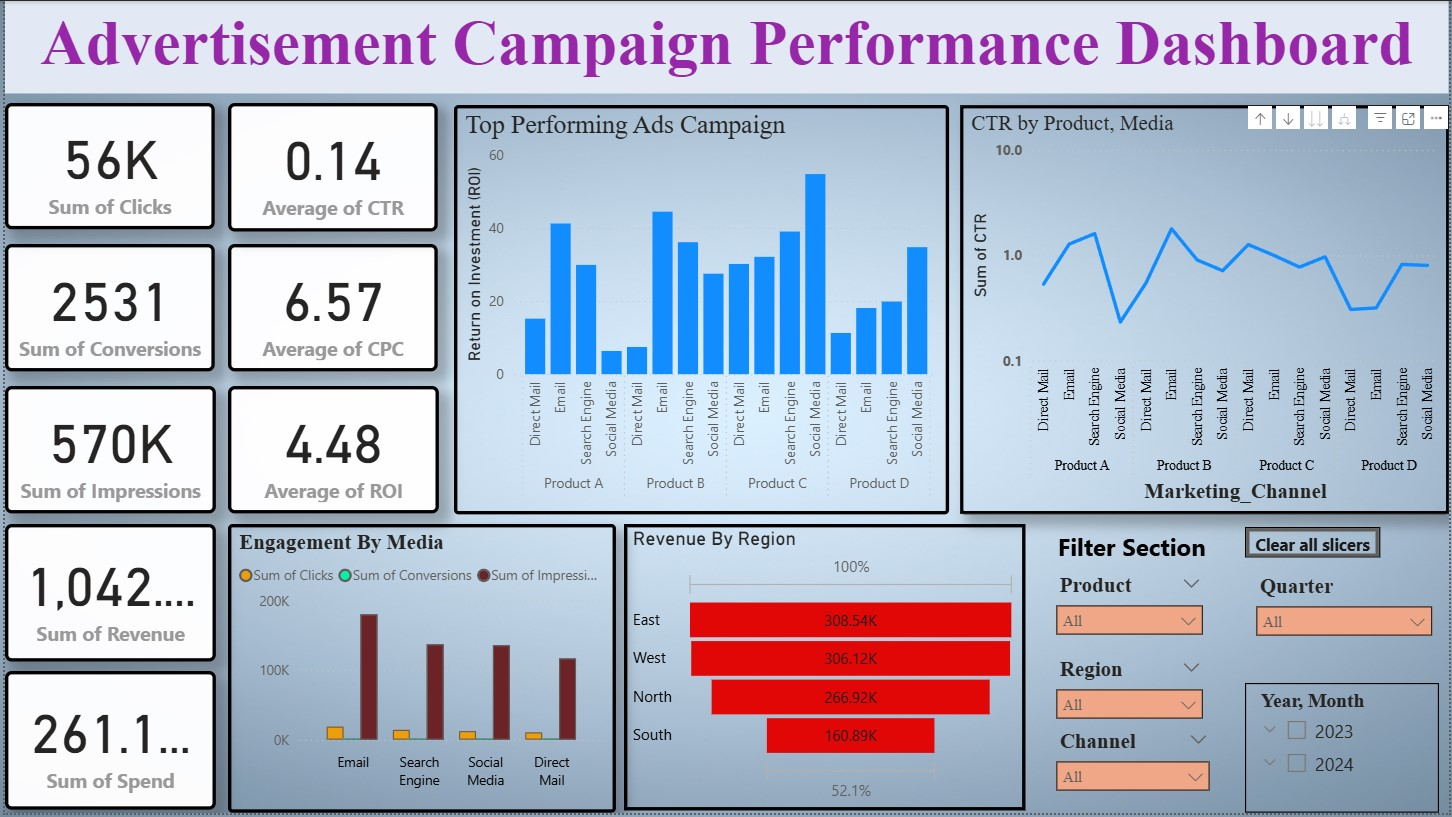

Layout of this report page (visuals, bound fields, positions):
{"tool":"powerbi","page":{"name":"Page 1","canvas":[1280,720],"ordinal":0},"visuals":[{"type":"textbox","box":[0,0,1280.4,82.5],"z":0},{"type":"card","fields":{"Values":["Sum(Sheet1.Conversions)"]},"box":[0,215.5,186.2,113.5],"z":1000},{"type":"card","fields":{"Values":["Sum(Sheet1.Clicks)"]},"box":[0,90.4,186.2,111.7],"z":2000},{"type":"card","fields":{"Values":["Avg(Sheet1.CPC)"]},"box":[197.7,215.5,186.2,113.5],"z":3000},{"type":"card","fields":{"Values":["Avg(Sheet1.CTR)"]},"box":[197.7,90.4,186.2,114.4],"z":4000},{"type":"card","fields":{"Values":["Sum(Sheet1.Impressions)"]},"box":[0,341.4,187.1,113.5],"z":5000},{"type":"card","fields":{"Values":["Sum(Sheet1.Revenue)"]},"box":[0,463.7,187.1,122.4],"z":6000},{"type":"card","fields":{"Values":["Sum(Sheet1.Spend)"]},"box":[0,594.1,187.1,123.3],"z":7000},{"type":"card","fields":{"Values":["Avg(Sheet1.ROI)"]},"box":[197.7,341.4,187.1,113.5],"z":8000},{"type":"slicer","fields":{"Values":["Sheet1.Product"]},"box":[922.2,501.9,149.9,61.2],"z":10000},{"type":"slicer","fields":{"Values":["Sheet1.Marketing_Channel"]},"box":[922.2,640.2,156.1,61.2],"z":11000},{"type":"slicer","fields":{"Values":["Sheet1.Region"]},"box":[922.2,576.4,149.9,62.1],"z":12000},{"type":"slicer","fields":{"Values":["Sheet1.Quarter"]},"box":[1099.5,502.8,175.6,60.3],"z":13000},{"type":"lineClusteredColumnComboChart","title":"Engagement By Media","fields":{"Category":["Sheet1.Marketing_Channel"],"Y":["Sum(Sheet1.Clicks)","Sum(Sheet1.Conversions)","Sum(Sheet1.Impressions)"]},"box":[197.7,463.7,344,256.3],"z":14000},{"type":"columnChart","title":"Top Performing Ads Campaign","fields":{"Category":["Sheet1.Product","Sheet1.Marketing_Channel"],"Y":["Sum(Sheet1.ROI)"]},"box":[398.1,92.2,438.9,362.7],"z":15000},{"type":"funnel","title":"Revenue By Region","fields":{"Y":["Sum(Sheet1.Revenue)"],"Category":["Sheet1.Region"]},"box":[548.9,463.7,356.5,253.6],"z":16000},{"type":"lineChart","title":"CTR by Product, Media","fields":{"Category":["Sheet1.Product","Sheet1.Marketing_Channel"],"Y":["Sum(Sheet1.CTR)"]},"box":[846.8,92.2,433.6,362.7],"z":17000},{"type":"slicer","fields":{"Values":["Sheet1.Date.Variation.Date Hierarchy.Year","Sheet1.Date.Variation.Date Hierarchy.Month"]},"box":[1099.5,604.7,172,115.3],"z":17001},{"type":"textbox","box":[928.4,463.7,299.7,38.1],"z":17002},{"type":"actionButton","box":[1099.5,466.4,119.7,27.5],"z":17003}]}

Visuals, with their boxes in screenshot pixels (x1, y1, x2, y2), scaled from the page's 1280x720 canvas onto the 1452x817 screenshot:
textbox: {"left": 0, "top": 0, "right": 1451, "bottom": 94}
card - Sum(Sheet1.Conversions): {"left": 0, "top": 245, "right": 211, "bottom": 373}
card - Sum(Sheet1.Clicks): {"left": 0, "top": 103, "right": 211, "bottom": 229}
card - Avg(Sheet1.CPC): {"left": 224, "top": 245, "right": 435, "bottom": 373}
card - Avg(Sheet1.CTR): {"left": 224, "top": 103, "right": 435, "bottom": 232}
card - Sum(Sheet1.Impressions): {"left": 0, "top": 387, "right": 212, "bottom": 516}
card - Sum(Sheet1.Revenue): {"left": 0, "top": 526, "right": 212, "bottom": 665}
card - Sum(Sheet1.Spend): {"left": 0, "top": 674, "right": 212, "bottom": 814}
card - Avg(Sheet1.ROI): {"left": 224, "top": 387, "right": 437, "bottom": 516}
slicer - Sheet1.Product: {"left": 1046, "top": 570, "right": 1216, "bottom": 639}
slicer - Sheet1.Marketing_Channel: {"left": 1046, "top": 726, "right": 1223, "bottom": 796}
slicer - Sheet1.Region: {"left": 1046, "top": 654, "right": 1216, "bottom": 725}
slicer - Sheet1.Quarter: {"left": 1247, "top": 571, "right": 1446, "bottom": 639}
"Engagement By Media" lineClusteredColumnComboChart: {"left": 224, "top": 526, "right": 614, "bottom": 816}
"Top Performing Ads Campaign" columnChart: {"left": 452, "top": 105, "right": 949, "bottom": 516}
"Revenue By Region" funnel: {"left": 623, "top": 526, "right": 1027, "bottom": 814}
"CTR by Product, Media" lineChart: {"left": 961, "top": 105, "right": 1451, "bottom": 516}
slicer - Sheet1.Date.Variation.Date Hierarchy.Year x Sheet1.Date.Variation.Date Hierarchy.Month: {"left": 1247, "top": 686, "right": 1442, "bottom": 816}
textbox: {"left": 1053, "top": 526, "right": 1393, "bottom": 569}
actionButton: {"left": 1247, "top": 529, "right": 1383, "bottom": 560}
